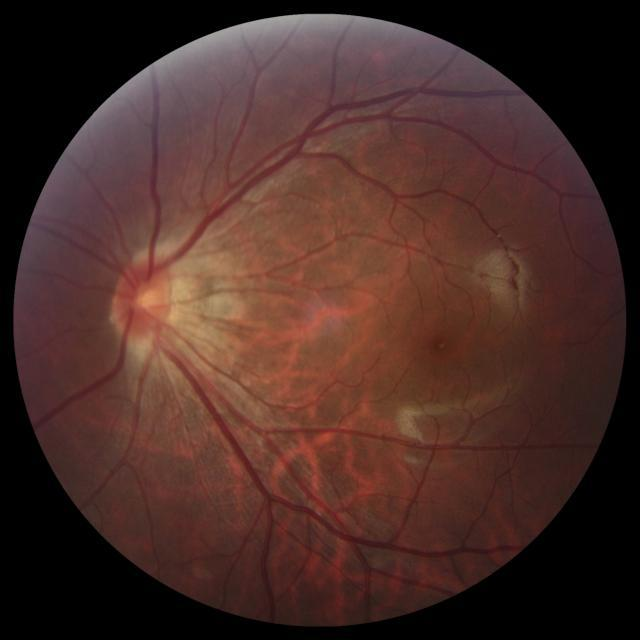OC: (132, 284, 158, 310)
OD: (114, 259, 174, 339)
